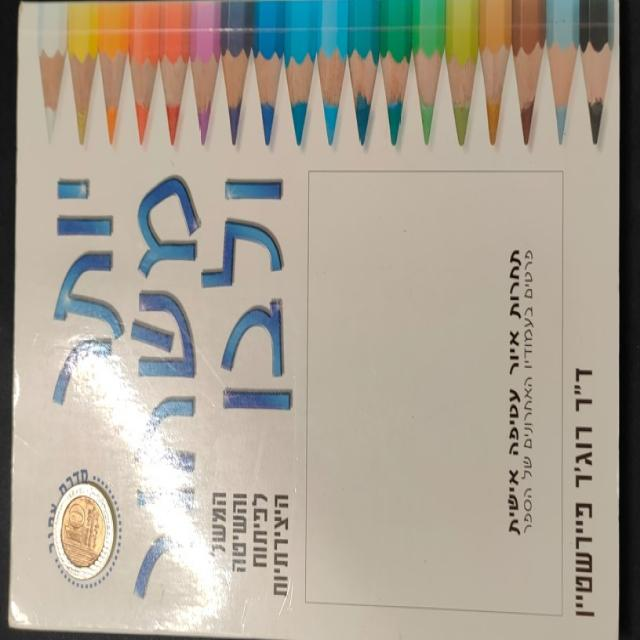10-shekel: (52, 474, 122, 593)
